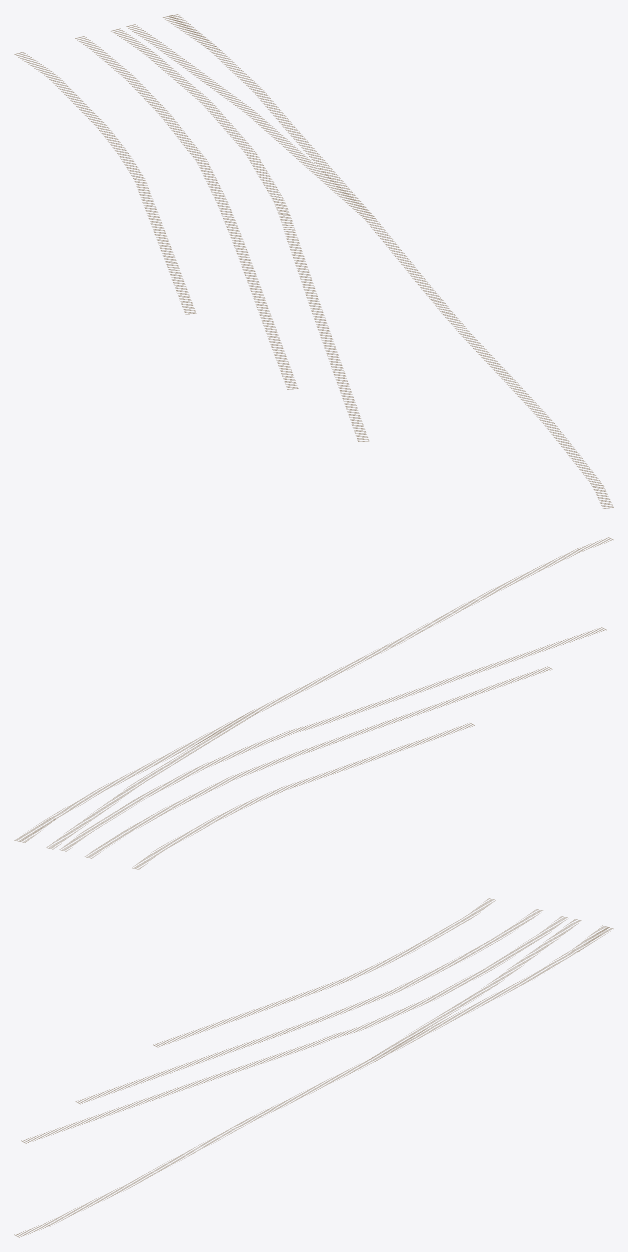
Rendered from c_1632_17828_rail_sleeper.glb.
3 views of the same model, one above another, from view 1: azimuth 30°, elevation 25°; view 2: azimuth 150°, elevation 25°; view 3: azimuth 330°, elevation 25° (orthographic). The views are drawn at different scales.
Parts seen in each view (by area): view 1: geometry_0; view 2: geometry_0; view 3: geometry_0.
Part boxes in pixels (x1,y1,x2,y2): geometry_0: [14, 14, 613, 508]; geometry_0: [14, 537, 613, 869]; geometry_0: [14, 898, 613, 1237].
Size of the model in its own units: 72.99 by 1.1 by 256.
